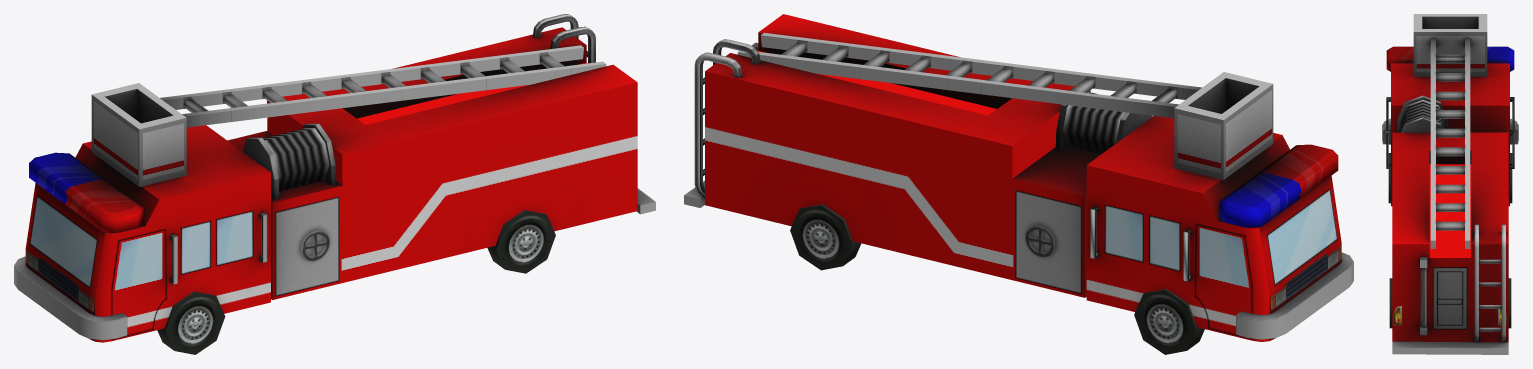
The model's file is Vehicle_FireTruck.FBX.
3 views of the same model, side by side, from view 1: azimuth 30°, elevation 25°; view 2: azimuth 150°, elevation 25°; view 3: azimuth 270°, elevation 25° (orthographic). The views are drawn at different scales.
Visible parts, largest first — view 1: OBJ_FireTruck; view 2: OBJ_FireTruck; view 3: OBJ_FireTruck.
Part boxes in pixels (x1,y1,x2,y2): OBJ_FireTruck: (14,14,655,354); OBJ_FireTruck: (684,14,1353,354); OBJ_FireTruck: (1382,14,1518,354).
Bounding box in the file's own units: 23.86 × 8.92 × 6.39.
